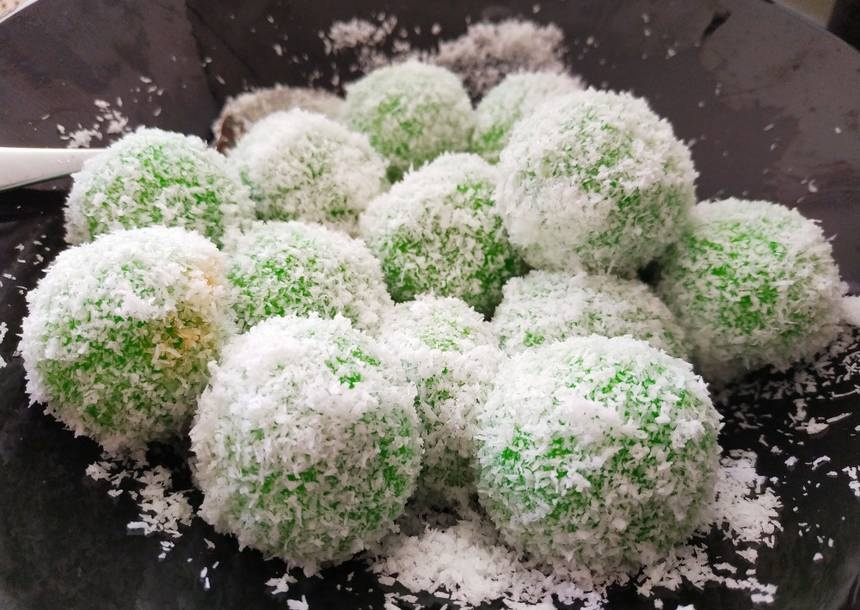klepon: (190, 320, 422, 560), (469, 358, 713, 573), (508, 78, 726, 279)
